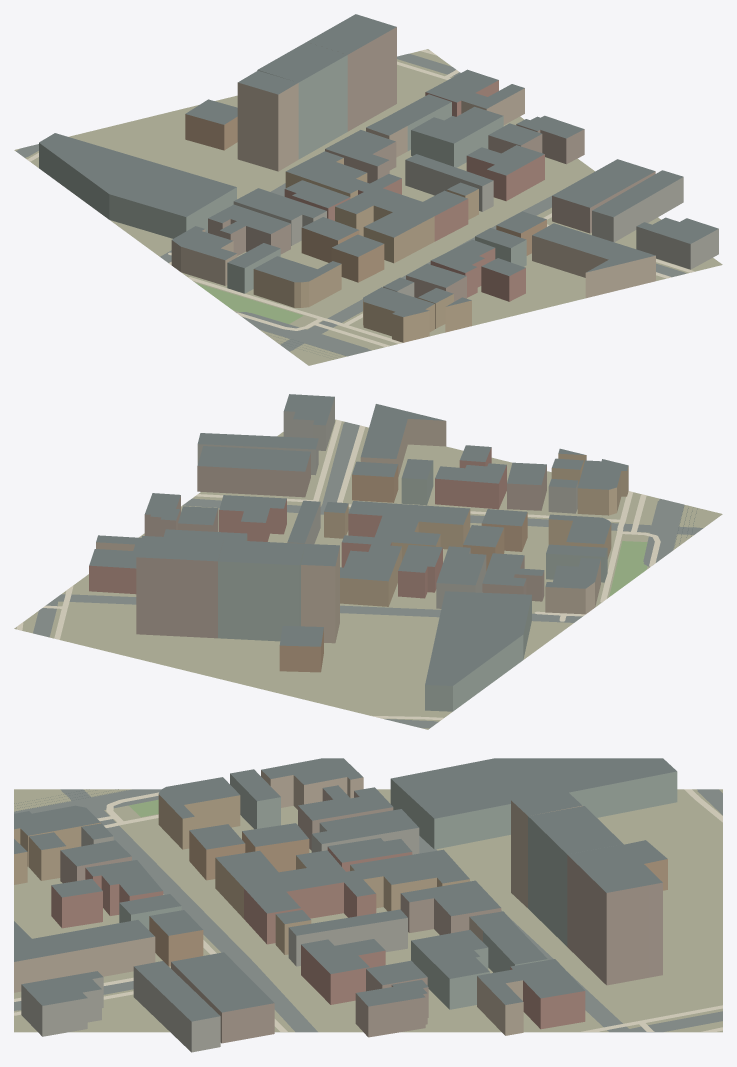
File: sector--4_0.glb
3 views of the same model, one above another, from view 1: azimuth 30°, elevation 25°; view 2: azimuth 150°, elevation 25°; view 3: azimuth 270°, elevation 25° (orthographic). The views are drawn at different scales.
Visible parts, largest first — view 1: -4:0-facade, -4:0-roof, -4:0-ground, -4:0-road, -4:0-paving, -4:0-park; view 2: -4:0-facade, -4:0-roof, -4:0-ground, -4:0-road, -4:0-paving, -4:0-park; view 3: -4:0-facade, -4:0-roof, -4:0-ground, -4:0-road, -4:0-paving.
Part boxes in pixels (left/top/right/bottom): -4:0-facade: left=39, top=27, right=718, bottom=342; -4:0-roof: left=39, top=14, right=718, bottom=317; -4:0-ground: left=14, top=49, right=722, bottom=365; -4:0-road: left=16, top=53, right=686, bottom=356; -4:0-paving: left=27, top=49, right=694, bottom=346; -4:0-park: left=195, top=282, right=303, bottom=323; -4:0-facade: left=89, top=397, right=628, bottom=711; -4:0-roof: left=89, top=394, right=628, bottom=685; -4:0-ground: left=14, top=419, right=722, bottom=729; -4:0-road: left=33, top=422, right=703, bottom=728; -4:0-paving: left=16, top=420, right=660, bottom=720; -4:0-park: left=609, top=541, right=647, bottom=596; -4:0-facade: left=14, top=770, right=677, bottom=1052; -4:0-roof: left=14, top=758, right=676, bottom=1021; -4:0-ground: left=14, top=789, right=722, bottom=1032; -4:0-road: left=14, top=789, right=722, bottom=1032; -4:0-paving: left=14, top=789, right=722, bottom=1031.
Bounding box in the file's own units: 176 × 28.8 × 200.
